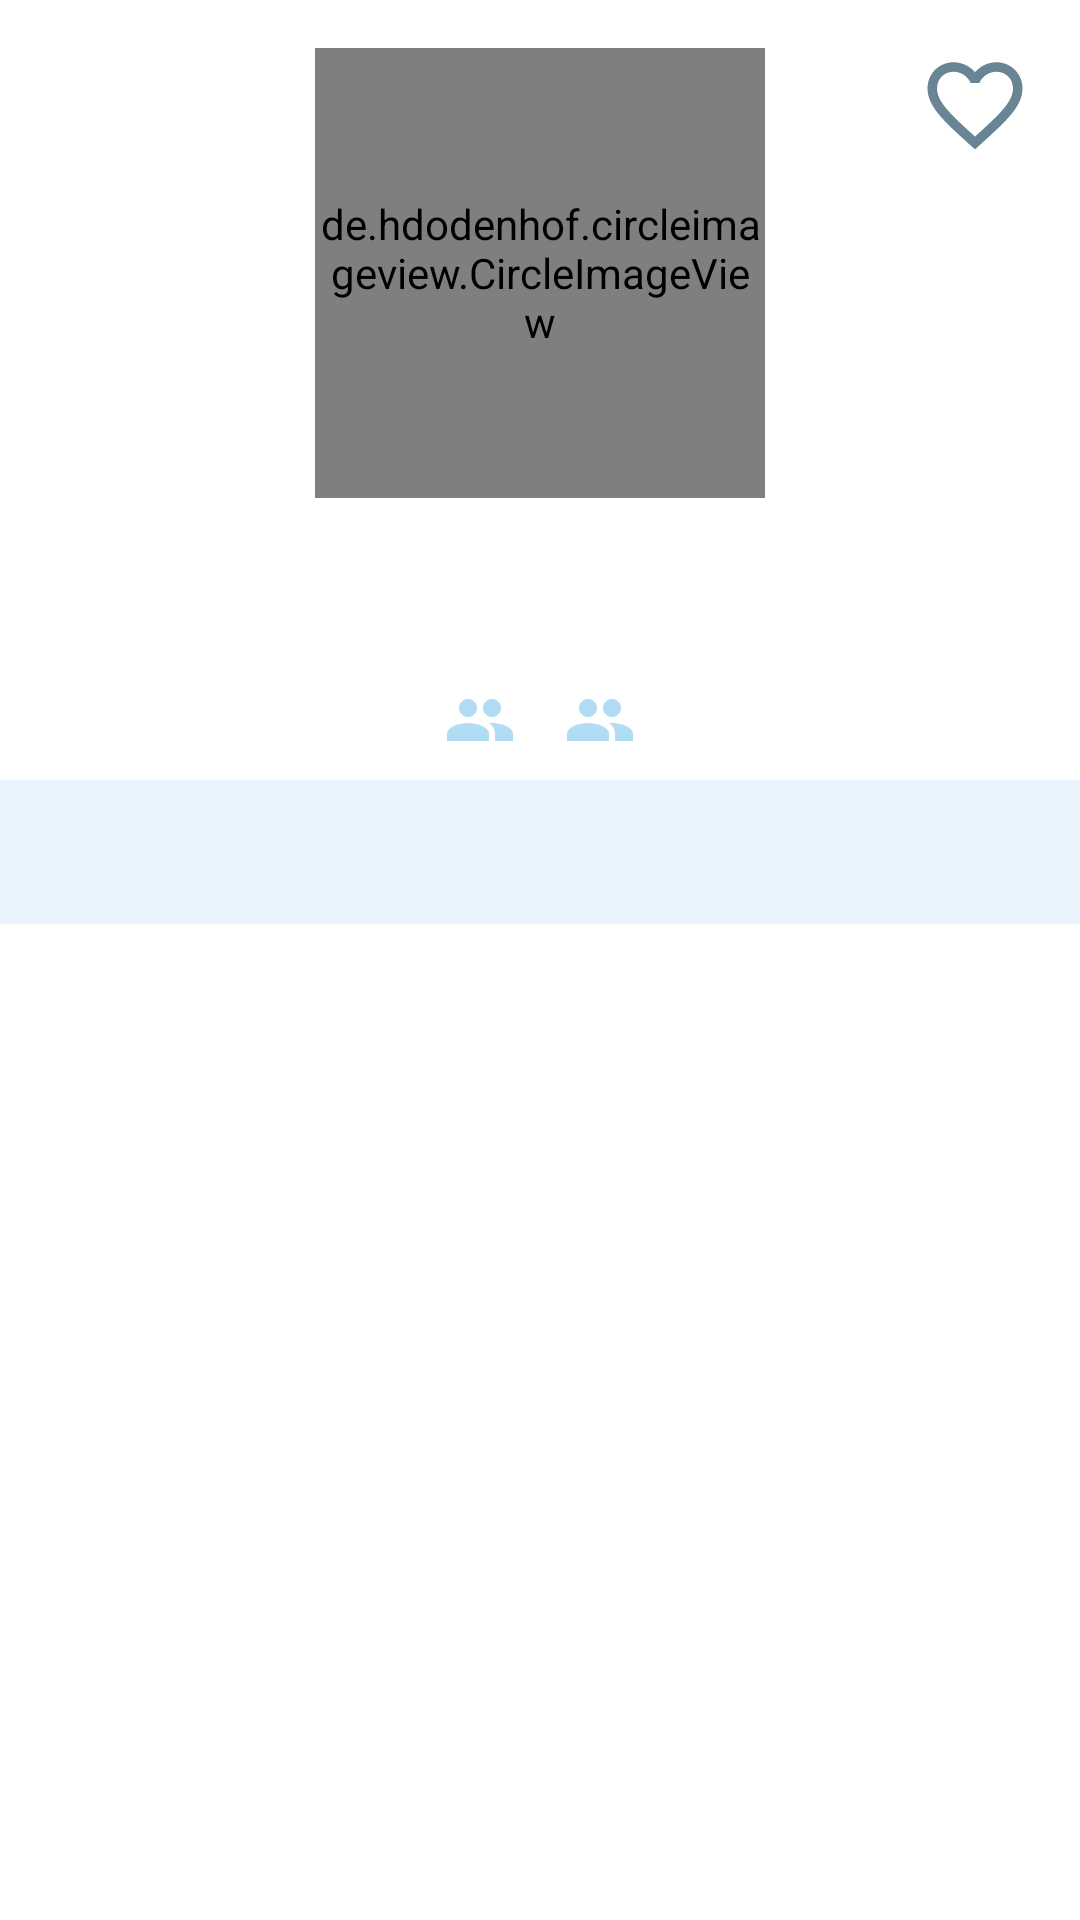

Where to tap for icons on this 1080px x 1920px app screen, as (x=x, y=y):
favorite toggle: (x=975, y=105)
